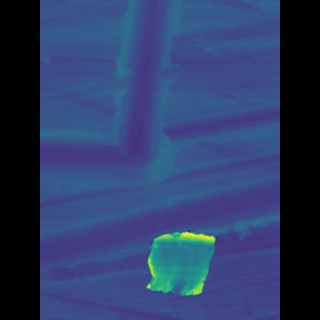Loch: (69, 100, 250, 177), (123, 0, 178, 177), (147, 223, 210, 299)
